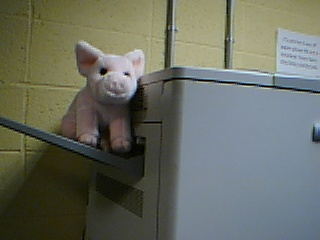piggy: (60, 39, 146, 155)
